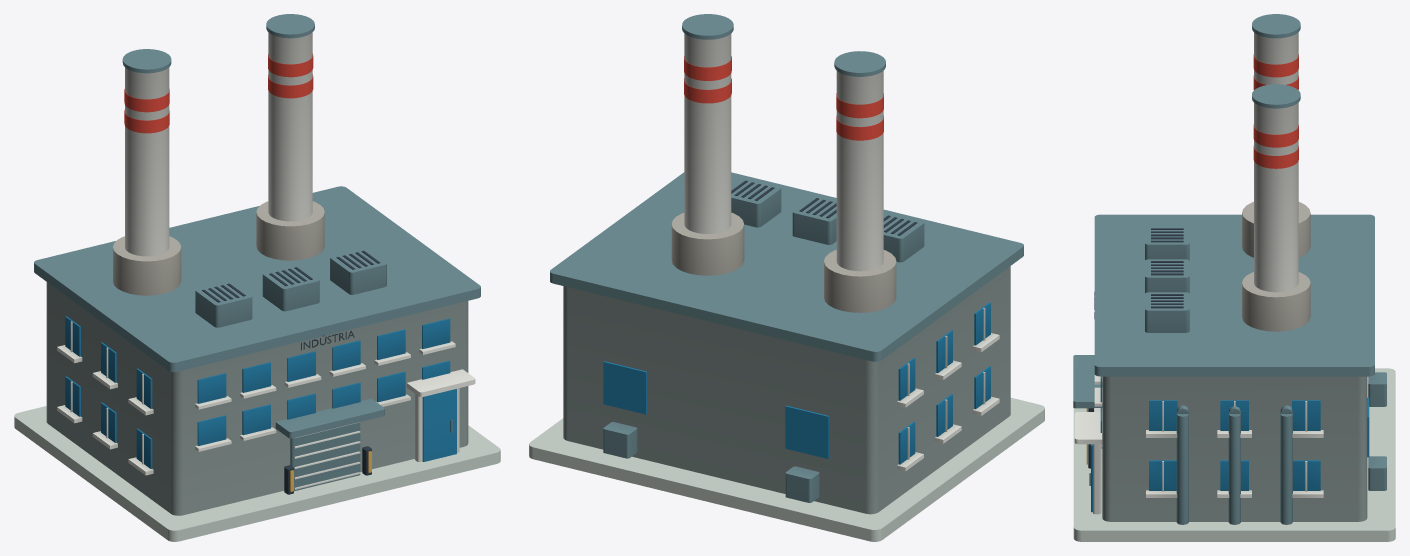
The model's file is industrial-works-low.glb.
The picture shows the model from 3 angles, left to right: view 1: azimuth 30°, elevation 25°; view 2: azimuth 150°, elevation 25°; view 3: azimuth 270°, elevation 25°; orthographic projection. The views are drawn at different scales.
Parts seen in each view (by area): view 1: factory roof cornice, main factory hall, window lower sill, recessed factory windows, industrial service slab, chimney base, red aviation marking, open dark chimney mouth; view 2: main factory hall, factory roof cornice, window lower sill, industrial service slab, recessed factory windows, chimney base, red aviation marking, open dark chimney mouth; view 3: factory roof cornice, main factory hall, window lower sill, industrial service slab, recessed factory windows, chimney base, red aviation marking, open dark chimney mouth.
Part boxes in pixels (bbox=[...]): factory roof cornice: bbox=[34, 14, 480, 491]; main factory hall: bbox=[46, 282, 468, 515]; window lower sill: bbox=[57, 32, 475, 489]; recessed factory windows: bbox=[65, 316, 456, 468]; industrial service slab: bbox=[14, 406, 500, 541]; chimney base: bbox=[113, 201, 324, 295]; red aviation marking: bbox=[124, 53, 313, 133]; open dark chimney mouth: bbox=[202, 250, 380, 494]; main factory hall: bbox=[563, 266, 1010, 514]; factory roof cornice: bbox=[550, 14, 1023, 502]; window lower sill: bbox=[684, 33, 999, 471]; industrial service slab: bbox=[529, 397, 1044, 541]; recessed factory windows: bbox=[603, 302, 990, 464]; chimney base: bbox=[671, 212, 896, 312]; red aviation marking: bbox=[684, 56, 883, 140]; open dark chimney mouth: bbox=[731, 180, 917, 235]; factory roof cornice: bbox=[1073, 14, 1386, 524]; main factory hall: bbox=[1102, 376, 1367, 521]; window lower sill: bbox=[1074, 32, 1323, 514]; industrial service slab: bbox=[1073, 368, 1395, 541]; recessed factory windows: bbox=[1091, 376, 1369, 512]; chimney base: bbox=[1242, 202, 1310, 331]; red aviation marking: bbox=[1253, 54, 1298, 168]; open dark chimney mouth: bbox=[1088, 228, 1183, 468].
Bounding box in the file's own units: 7.4 × 8.34 × 6.21.
